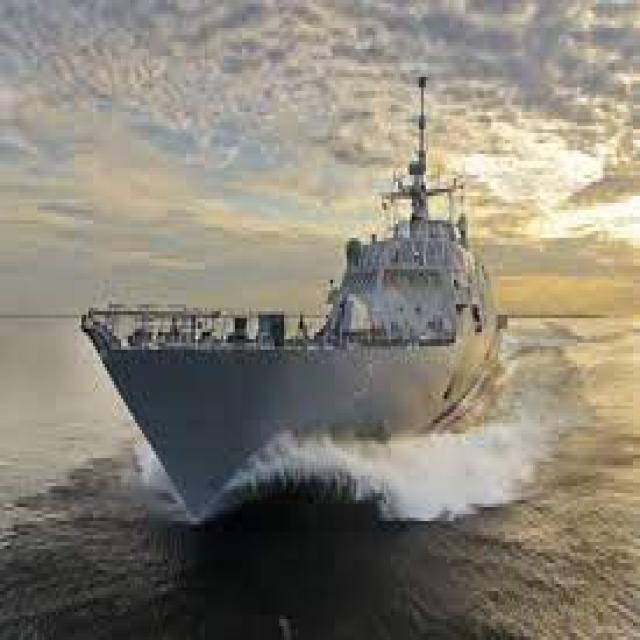navalvessels: (92, 109, 504, 506)
